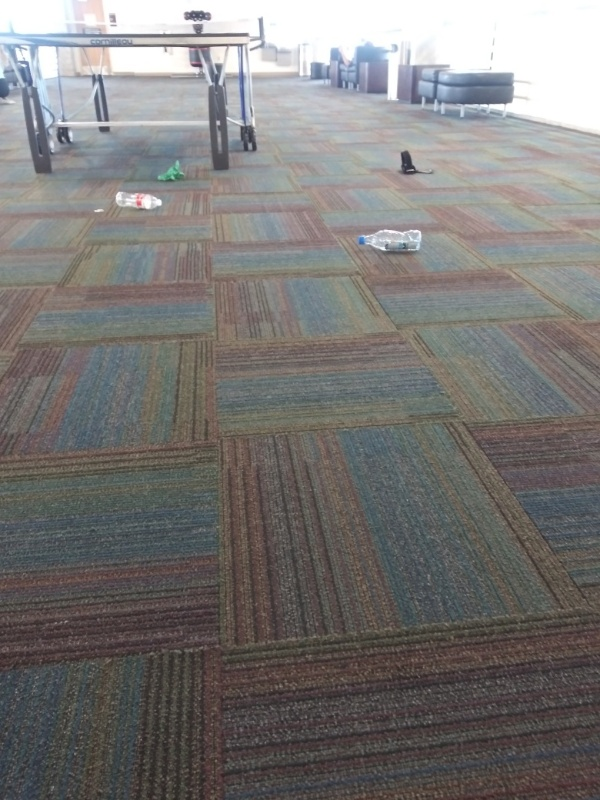bottle: (351, 225, 425, 258), (113, 188, 168, 211)
